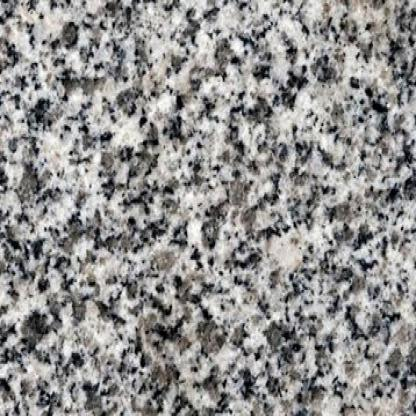Igneous_Diorite: (27, 69, 351, 406)
